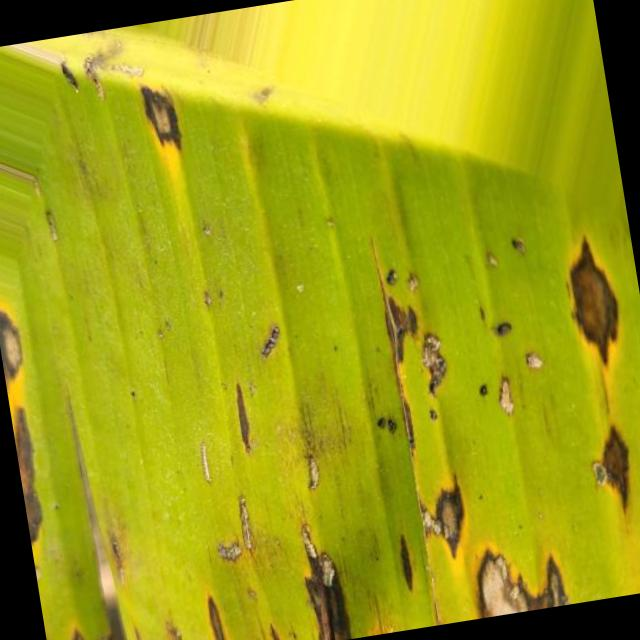Banana_Yellow_Sigatoka: (370, 239, 640, 622), (49, 515, 443, 640), (0, 288, 81, 579)
